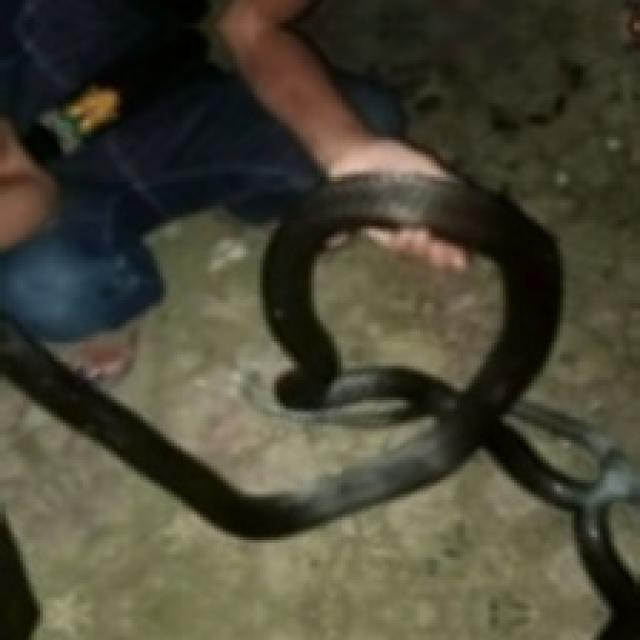king cobra: (0, 177, 637, 637), (309, 223, 506, 394)
